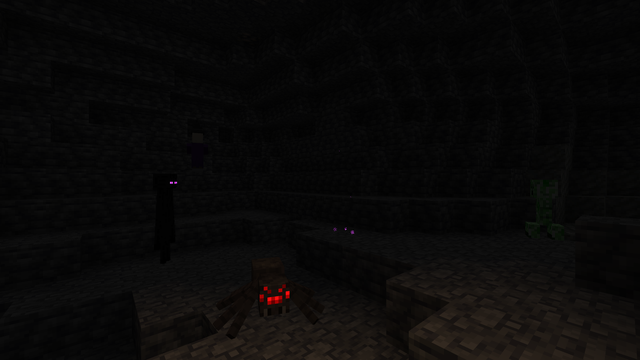araignees: (221, 253, 319, 345)
creepers: (527, 176, 559, 239)
endermens: (152, 170, 176, 265)
sorcieres: (189, 130, 205, 171)
